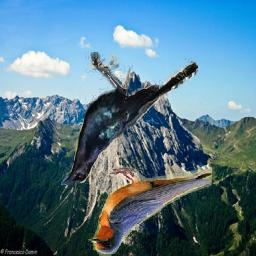Crow: (62, 53, 199, 186)
Swallow: (88, 162, 212, 256)
